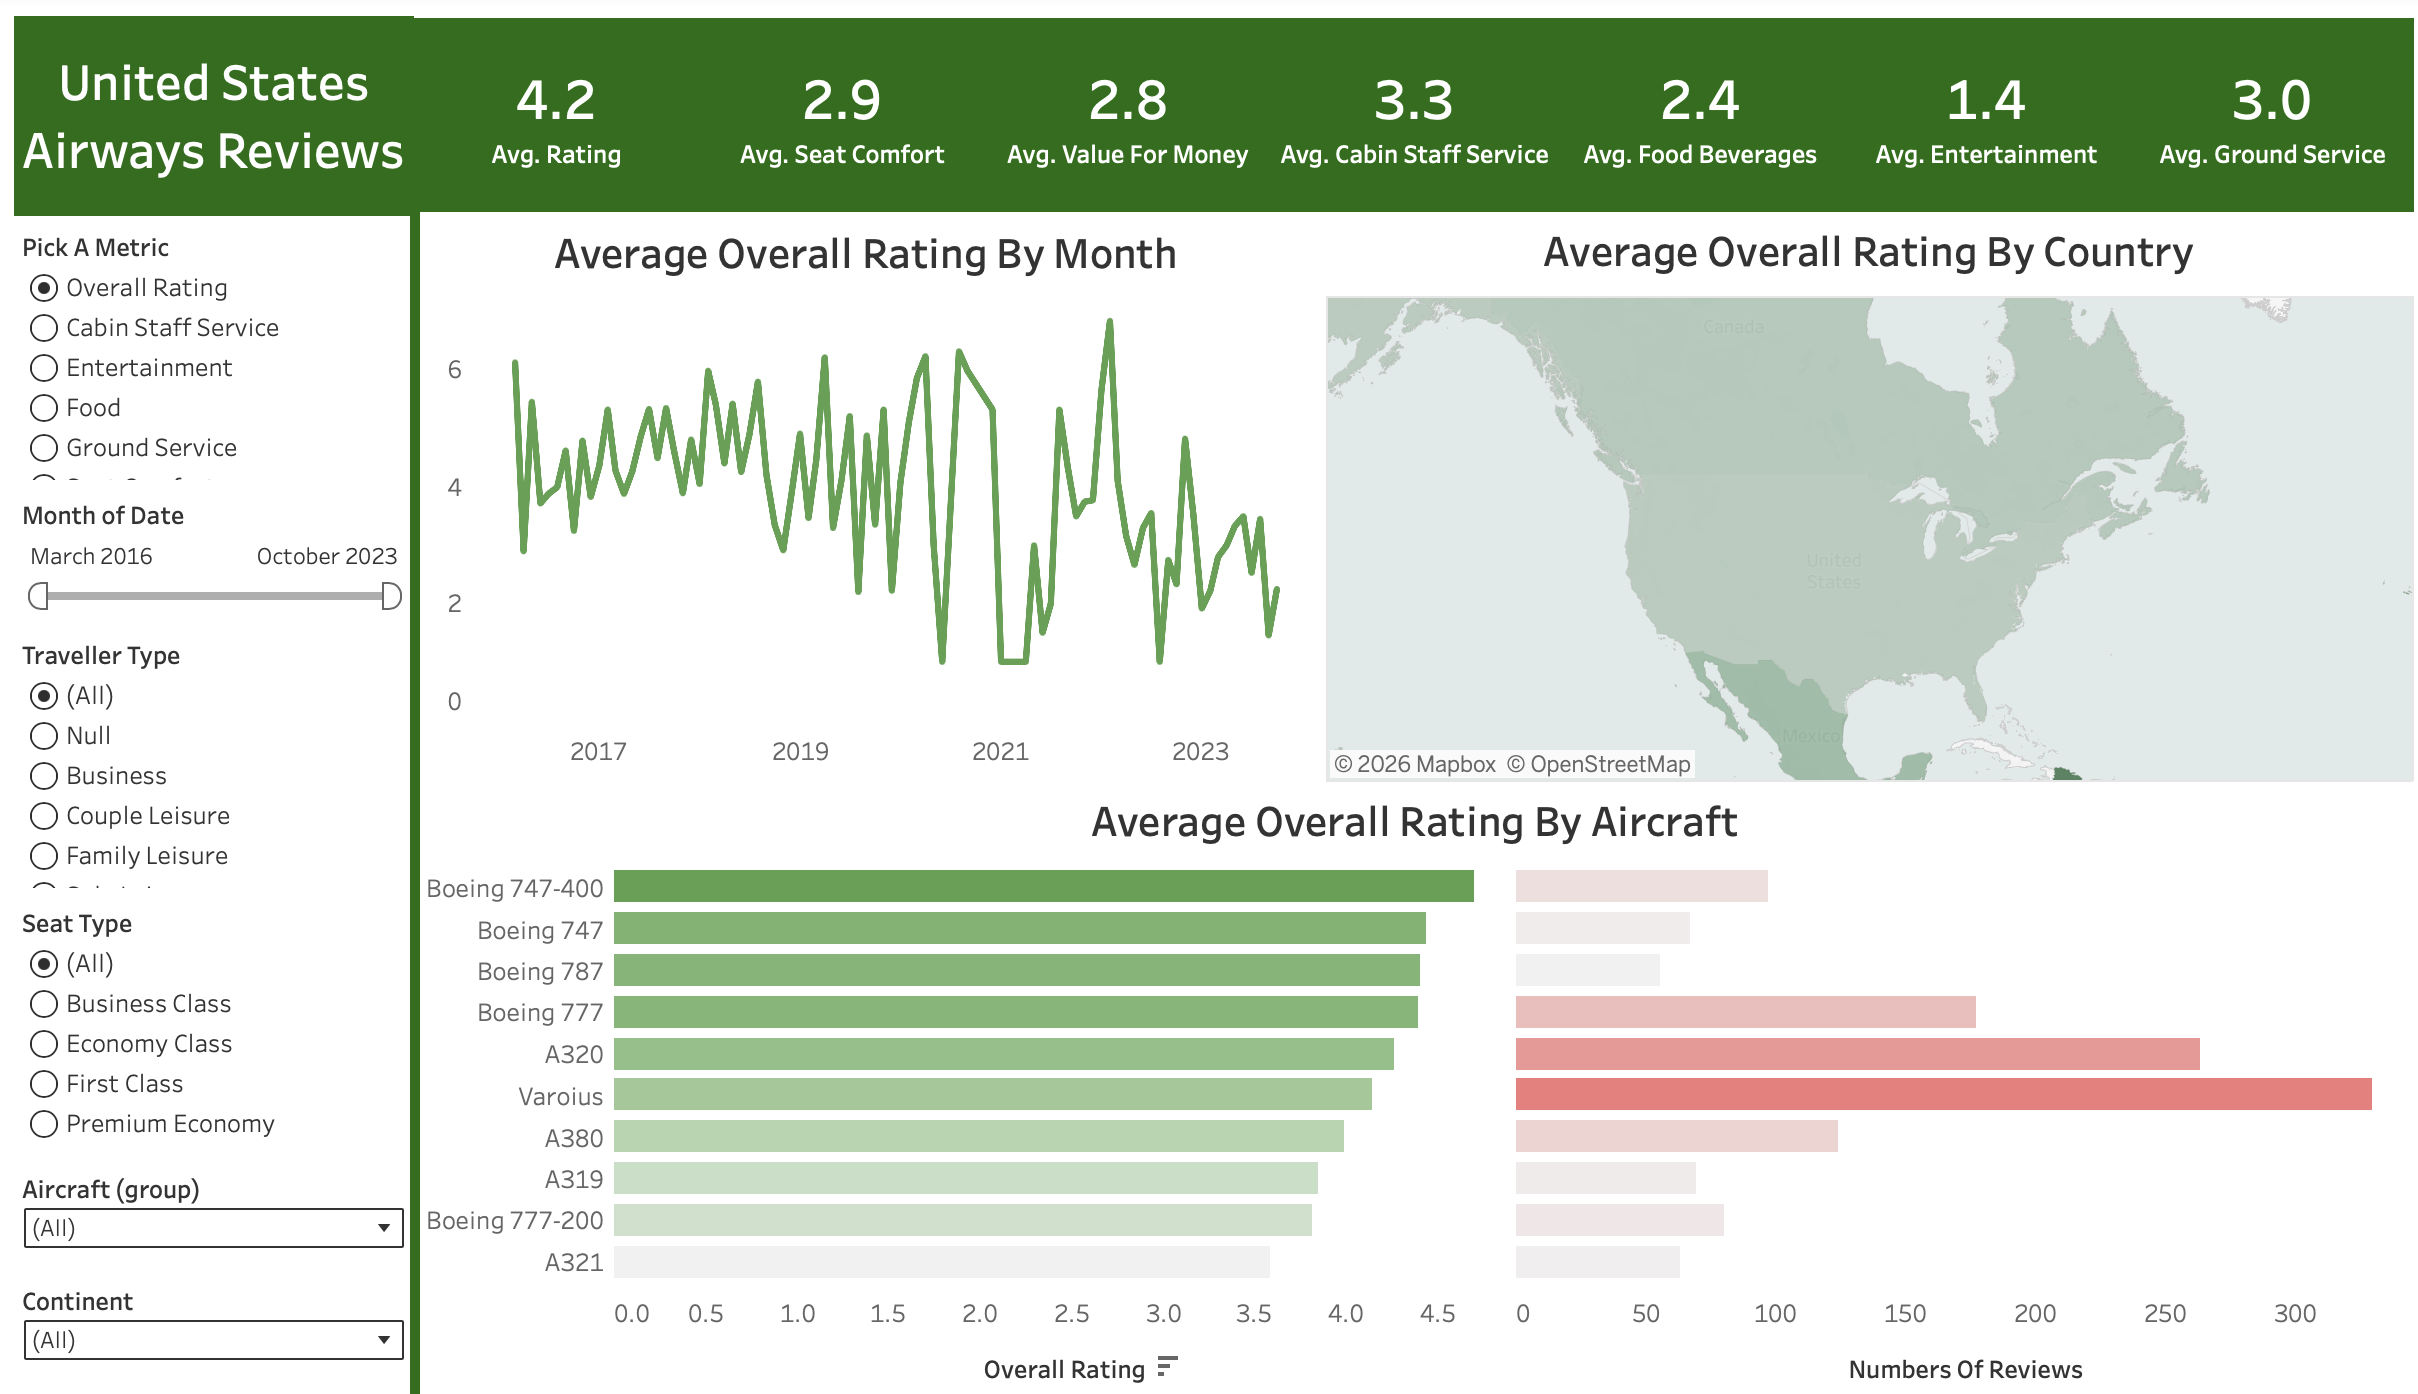

What the dashboard file says about the page in this screenshot:
{"tool":"tableau","page":{"name":"Dashboard 1","canvas":[1200,700],"ordinal":0},"visuals":[{"type":"text","box":[0,8,200,100]},{"type":"worksheet","title":"Summary","mark":"Automatic","box":[200,9,1001,97]},{"type":"worksheet","title":"Map","mark":"Automatic","box":[656,105,544,286]},{"type":"blank","box":[198,106,5,594]},{"type":"worksheet","title":"Month","mark":"Automatic","rows":["Calculation_3475424426512384"],"cols":["date"],"box":[200,106,452,284]},{"type":"parameter","param":"[Parameters].[Parameter 1]","box":[0,110,200,141.5]},{"type":"filter","title":"Map","param":"[federated.1hqw1vy1wk06gb1c9yxoc1jdwbgn].[tmn:date:qk]","box":[0,251.5,200,69]},{"type":"filter","title":"Map","param":"[federated.1hqw1vy1wk06gb1c9yxoc1jdwbgn].[none:traveller_type:nk]","box":[0,320.5,200,141.5]},{"type":"worksheet","title":"Aircraft","mark":"Automatic","cols":["Calculation_3475424426512384","ba_reviews.csv_2A8E82B5B0AB4B3A906DA0261F3C09E0"],"box":[200,390,1001,308]},{"type":"filter","title":"Map","param":"[federated.1hqw1vy1wk06gb1c9yxoc1jdwbgn].[none:seat_type:nk]","box":[0,462,200,127]},{"type":"filter","title":"Map","param":"[federated.1hqw1vy1wk06gb1c9yxoc1jdwbgn].[Aircraft (group)]","box":[0,589,200,52]},{"type":"filter","title":"Map","param":"[federated.1hqw1vy1wk06gb1c9yxoc1jdwbgn].[none:Continent:nk]","box":[0,641,200,52]}]}

Visuals, with their boxes in screenshot pixels (x1, y1, x2, y2), scaled from the page's 1200x700 canvas onto the 2418x1394 screenshot:
text: pyautogui.locateOnScreen(0, 16, 403, 215)
"Summary" worksheet: pyautogui.locateOnScreen(403, 18, 2417, 211)
"Map" worksheet: pyautogui.locateOnScreen(1322, 209, 2417, 779)
blank: pyautogui.locateOnScreen(399, 211, 409, 1393)
"Month" worksheet: pyautogui.locateOnScreen(403, 211, 1314, 777)
parameter: pyautogui.locateOnScreen(0, 219, 403, 501)
"Map" filter: pyautogui.locateOnScreen(0, 501, 403, 638)
"Map" filter: pyautogui.locateOnScreen(0, 638, 403, 920)
"Aircraft" worksheet: pyautogui.locateOnScreen(403, 777, 2417, 1390)
"Map" filter: pyautogui.locateOnScreen(0, 920, 403, 1173)
"Map" filter: pyautogui.locateOnScreen(0, 1173, 403, 1277)
"Map" filter: pyautogui.locateOnScreen(0, 1277, 403, 1380)
